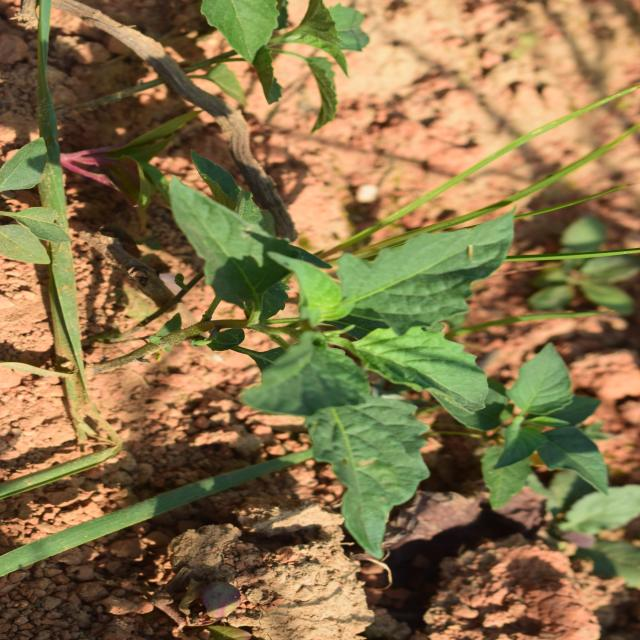Black_nightshade: (204, 145, 531, 453)
